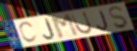C: (18, 21, 39, 44)
J: (96, 9, 110, 31), (43, 18, 56, 41)
M: (49, 13, 81, 40)
S: (108, 5, 130, 30)
U: (70, 10, 94, 36)
